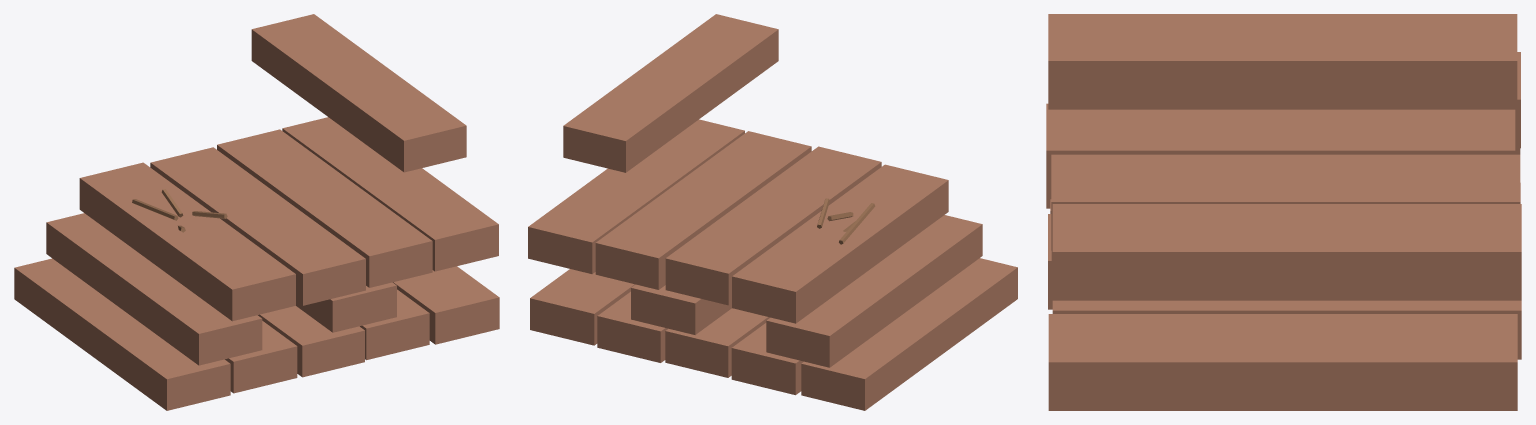
The model's file is wall_brick_dmg_b.glb.
The picture shows the model from 3 angles, left to right: view 1: azimuth 30°, elevation 25°; view 2: azimuth 150°, elevation 25°; view 3: azimuth 270°, elevation 25°; orthographic projection. The views are drawn at different scales.
Parts seen in each view (by area): view 1: WallBrickDamaged; view 2: WallBrickDamaged; view 3: WallBrickDamaged.
Part boxes in pixels (x1,y1,x2,y2): WallBrickDamaged: (14,14,499,410); WallBrickDamaged: (528,14,1017,410); WallBrickDamaged: (1046,14,1521,410).
Bounding box in the file's own units: 4.86 × 3.01 × 3.9.
